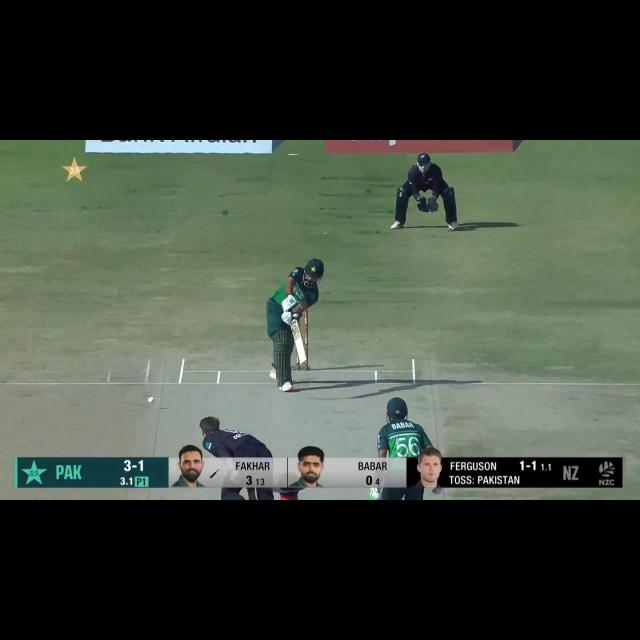bat: (290, 318, 308, 366)
toe: (299, 356, 308, 366)
